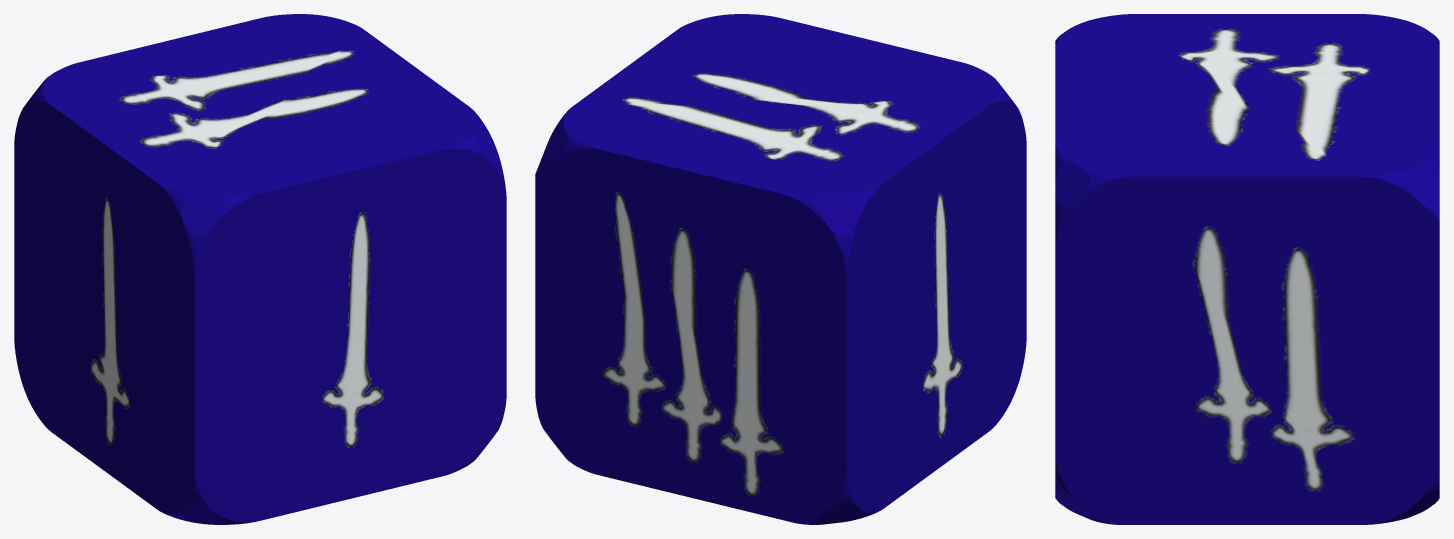
File: blue_dice.fbx
The picture shows the model from 3 angles, left to right: view 1: azimuth 30°, elevation 25°; view 2: azimuth 150°, elevation 25°; view 3: azimuth 270°, elevation 25°; orthographic projection. The views are drawn at different scales.
Visible parts, largest first — view 1: Cube; view 2: Cube; view 3: Cube.
Part boxes in pixels (<box>): Cube: <box>14,14,506,524</box>; Cube: <box>535,14,1026,524</box>; Cube: <box>1055,14,1439,524</box>.
Bounding box in the file's own units: 200 × 200 × 200.
